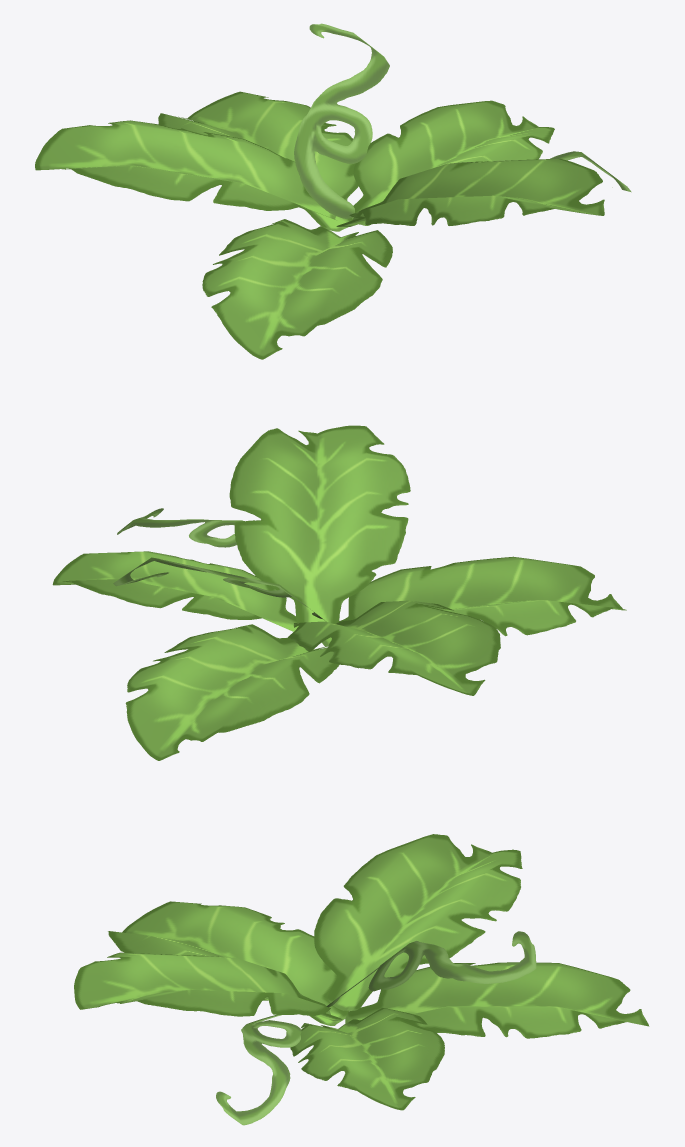
File: Ctn_groundPlant_03_v01.FBX
The picture shows the model from 3 angles, top to bottom: view 1: azimuth 30°, elevation 25°; view 2: azimuth 150°, elevation 25°; view 3: azimuth 270°, elevation 25°; orthographic projection. The views are drawn at different scales.
Parts seen in each view (by area): view 1: Ctn_groundPlant_03_v01; view 2: Ctn_groundPlant_03_v01; view 3: Ctn_groundPlant_03_v01.
Part boxes in pixels (left/top/right/bottom): Ctn_groundPlant_03_v01: left=35, top=23, right=631, bottom=359; Ctn_groundPlant_03_v01: left=52, top=425, right=626, bottom=760; Ctn_groundPlant_03_v01: left=74, top=834, right=649, bottom=1125.
Size of the model in its own units: 104 by 23.59 by 108.
